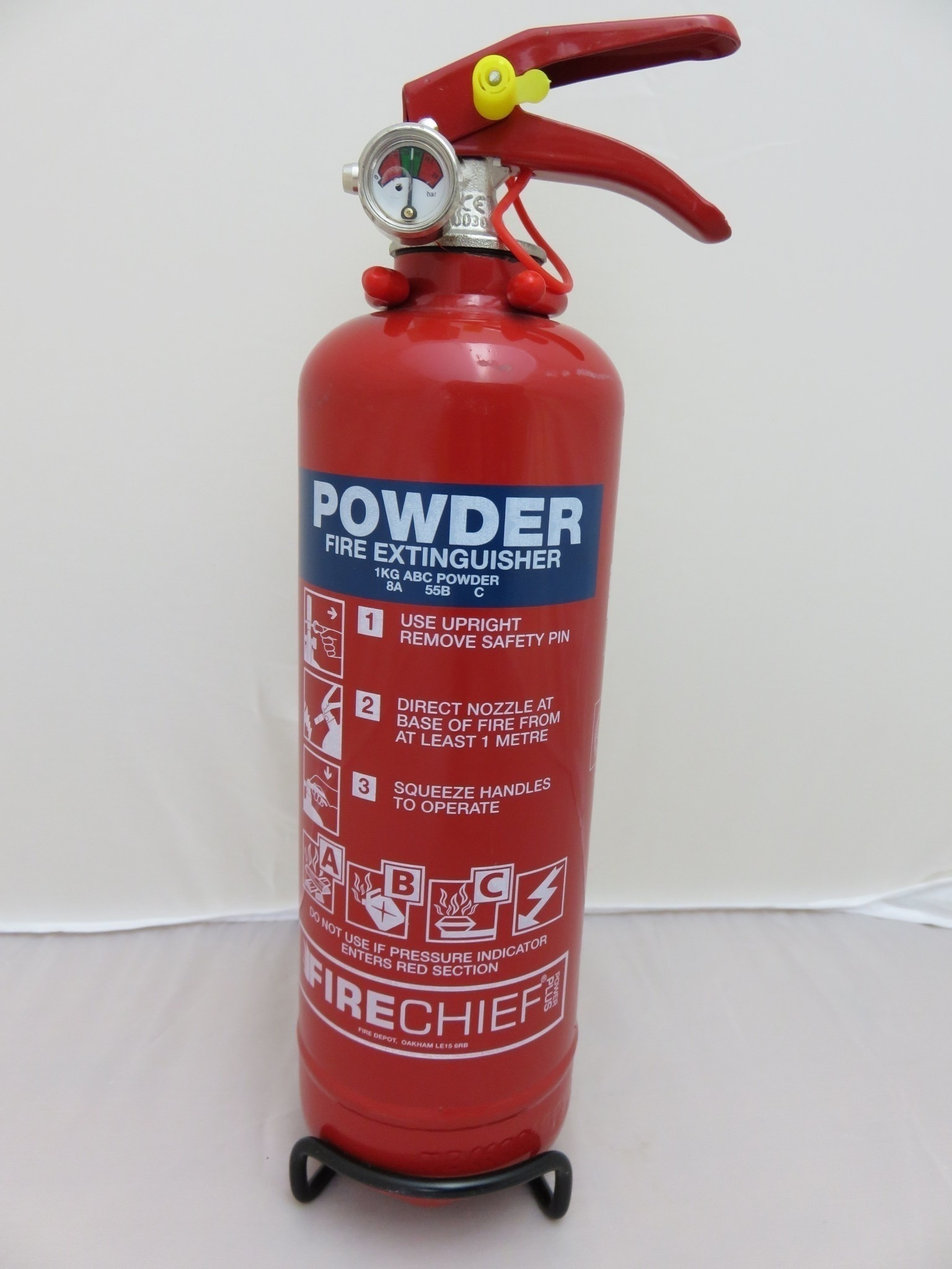fire_extinguisher: (291, 13, 739, 1220)
